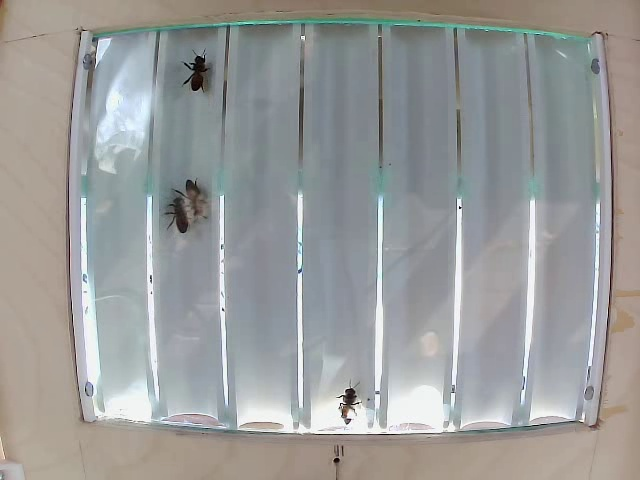bee: (182, 173, 216, 225), (330, 370, 362, 422), (191, 54, 218, 102), (163, 196, 193, 236)
